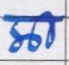i_matra: (40, 11, 54, 48)
